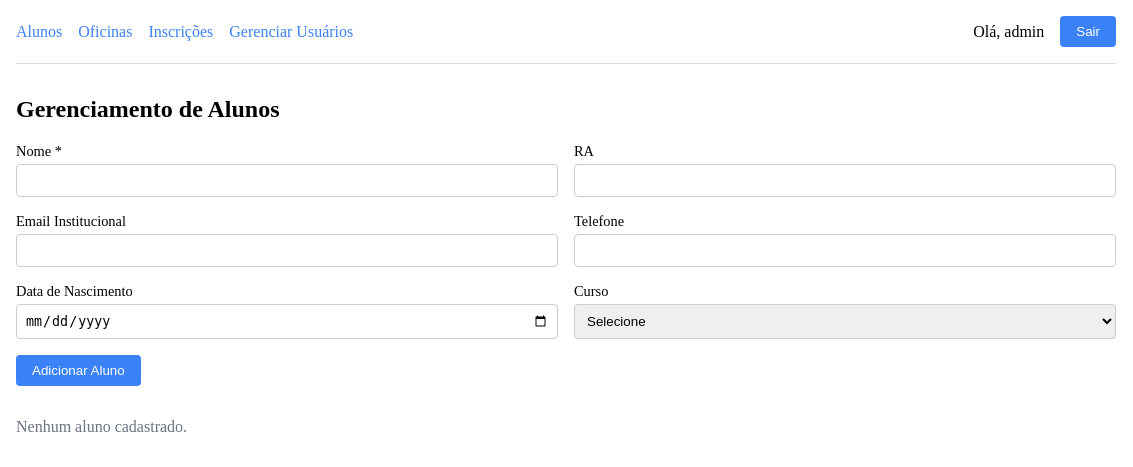
AlunosView › exibe mensagem de erro quando telefone tem entre 1 e 9 caracteres
Type "9999" into the field named "Mínimo 10 dígitos (ex: (41) 99999-9999)" at (845, 250), box [574, 234, 1116, 267]
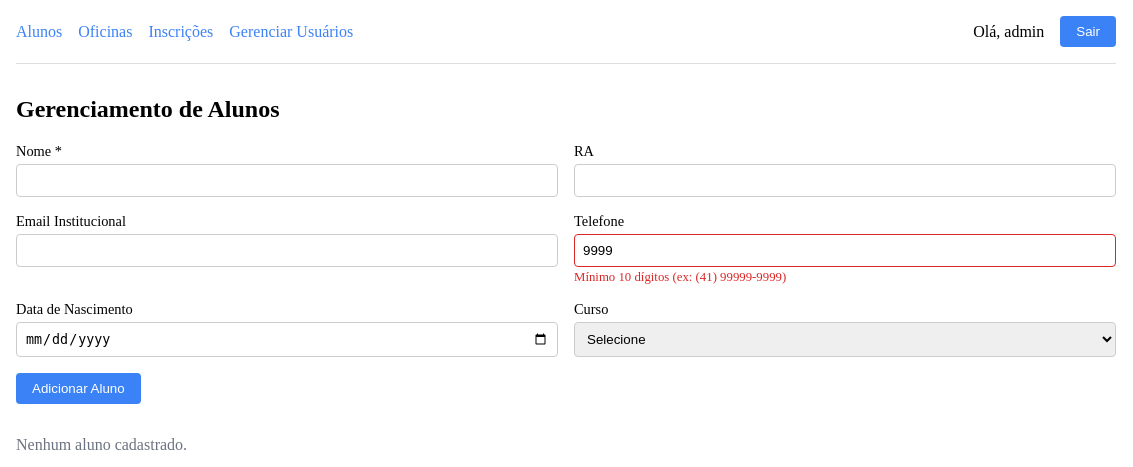
Expected: the text "Mínimo 10 dígitos" is shown, [574, 270, 786, 284]
